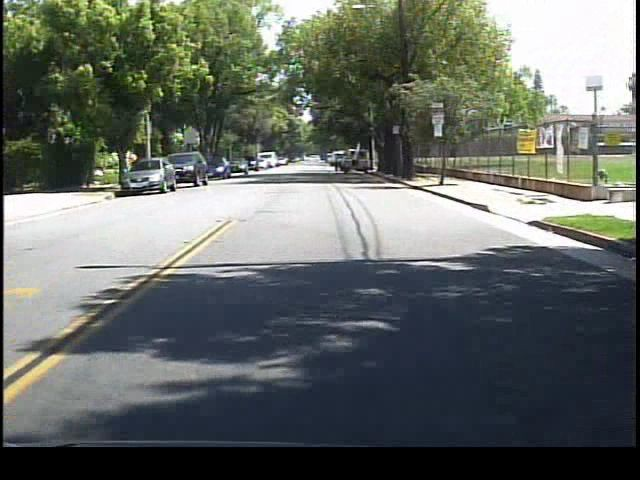person: (328, 147, 344, 173)
